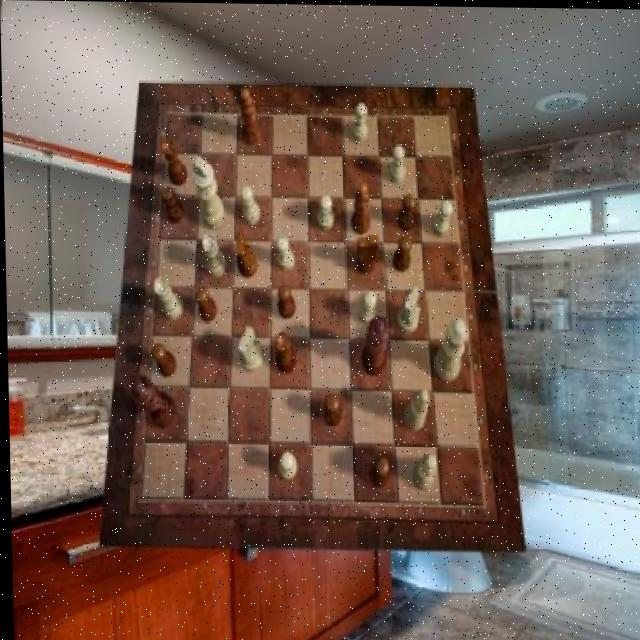bishop: (239, 89, 261, 145), (349, 182, 370, 235)
black-bishop: (127, 374, 175, 429)
black-king: (234, 231, 256, 277), (354, 235, 379, 275)
black-knight: (160, 185, 184, 223), (149, 343, 174, 378), (193, 287, 216, 323), (390, 234, 411, 270), (395, 194, 414, 230), (277, 283, 295, 318), (367, 455, 387, 486), (321, 394, 341, 425)
black-pawn: (359, 315, 388, 375)
black-queen: (159, 139, 186, 187), (273, 331, 294, 374)
black-rook: (402, 387, 427, 430), (410, 451, 435, 489)
white-bishop: (191, 156, 225, 231)
white-king: (235, 326, 260, 372), (394, 286, 418, 332)
white-knight: (430, 200, 452, 237), (349, 103, 367, 143), (241, 186, 259, 225), (388, 143, 405, 183), (276, 235, 294, 270), (357, 290, 375, 324), (316, 194, 333, 229), (277, 451, 295, 480)
white-pawn: (432, 317, 468, 381)
white-queen: (150, 276, 181, 320), (199, 232, 225, 277)
